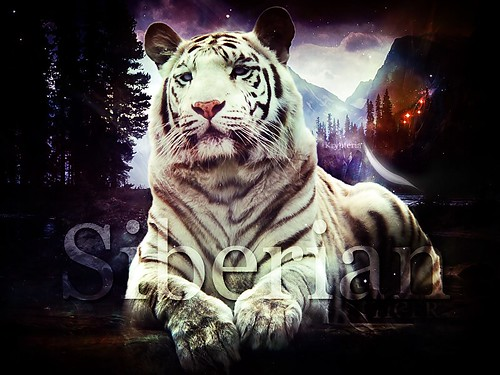Tigrew: (124, 17, 445, 349)
